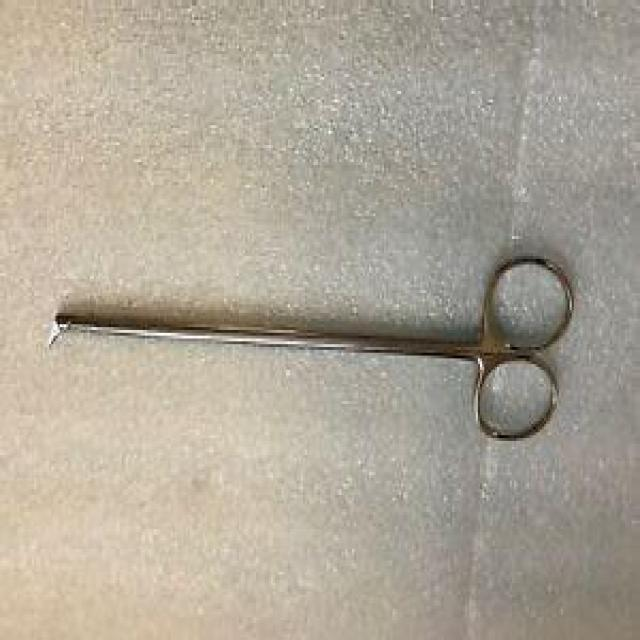Potts: (41, 236, 578, 455)
